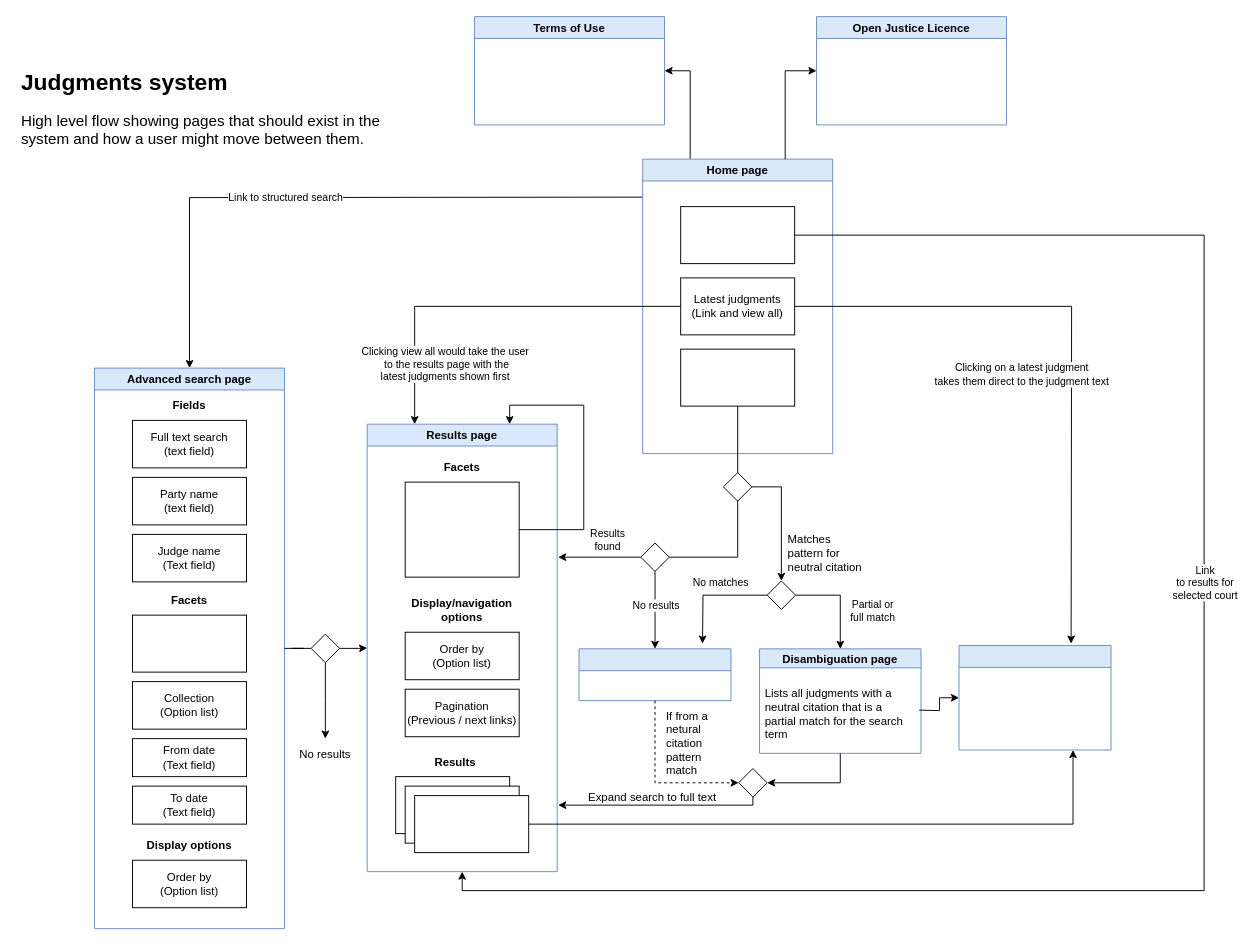
This 1253x945 diagram has some shape labels left out. The shapes that lost their labels are listed below. From the top down, each one's centre as x and y in pixels, then its label:
the point at 737,235: Browse by court
the point at 737,377: Search form
the point at 461,529: Apply/remove refinement (replicating those available on advanced search)
the point at 189,643: Court (Select with opt group)
the point at 654,674: No results page
the point at 1034,697: Judgment page
the point at 471,824: Judgment
